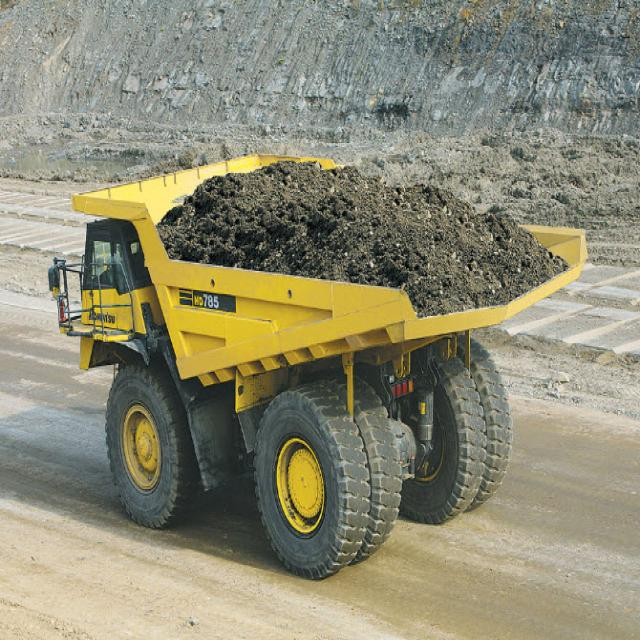dump_truck: (65, 152, 594, 582)
